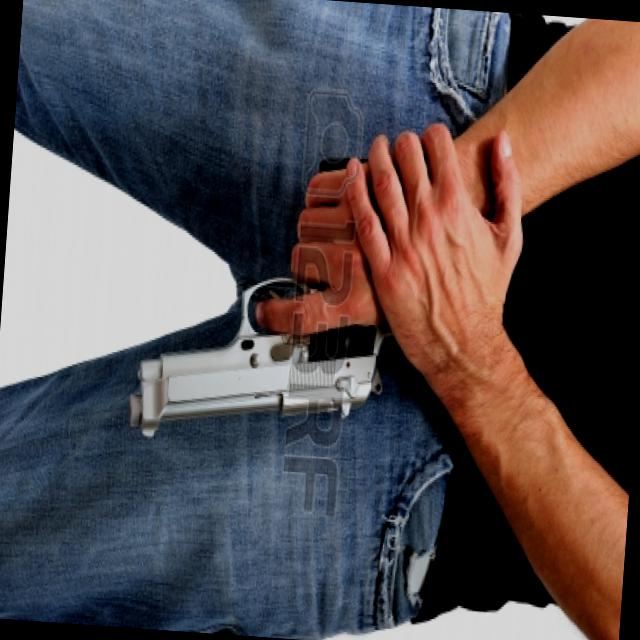handgun: (125, 135, 431, 454)
